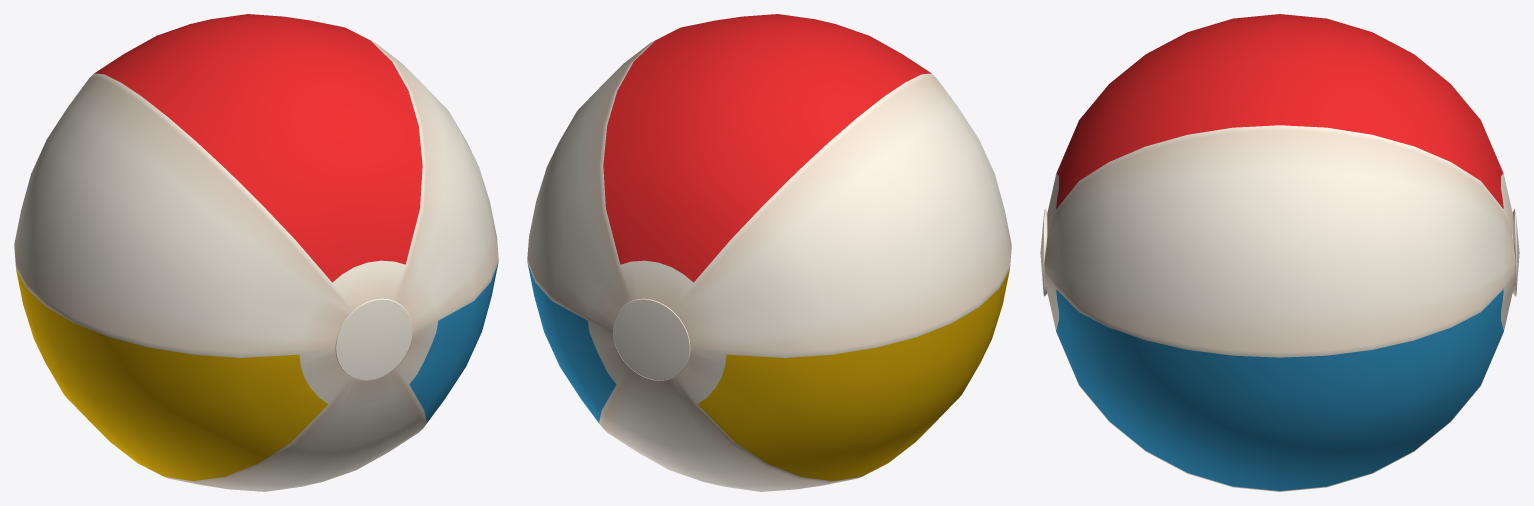
The model's file is beach_ball.fbx.
The picture shows the model from 3 angles, left to right: view 1: azimuth 30°, elevation 25°; view 2: azimuth 150°, elevation 25°; view 3: azimuth 270°, elevation 25°; orthographic projection.
Parts seen in each view (by area): view 1: beach_ball; view 2: beach_ball; view 3: beach_ball.
Boxes of the visible parts, left/top/right/bottom form: beach_ball: left=14, top=14, right=498, bottom=491; beach_ball: left=527, top=14, right=1011, bottom=491; beach_ball: left=1040, top=14, right=1519, bottom=491.
Bounding box in the file's own units: 1.27 × 1.26 × 1.26.
